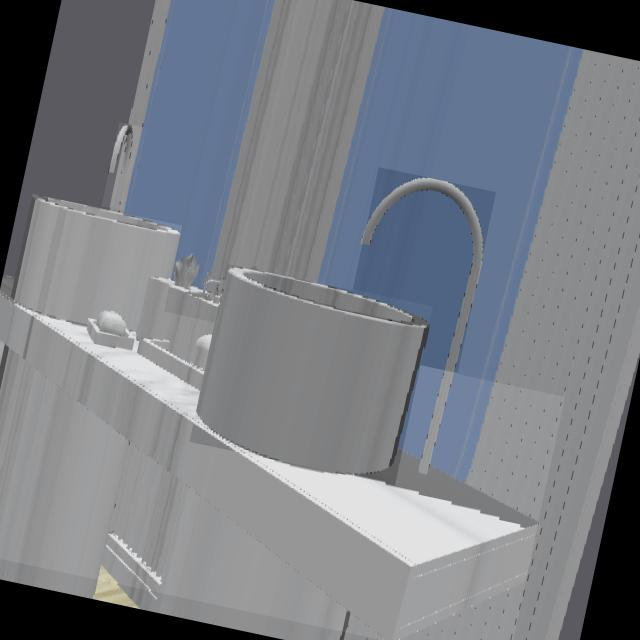shelf: (0, 279, 537, 640)
washbasin: (196, 268, 428, 474), (362, 178, 482, 473), (11, 199, 178, 329), (109, 124, 133, 209)
